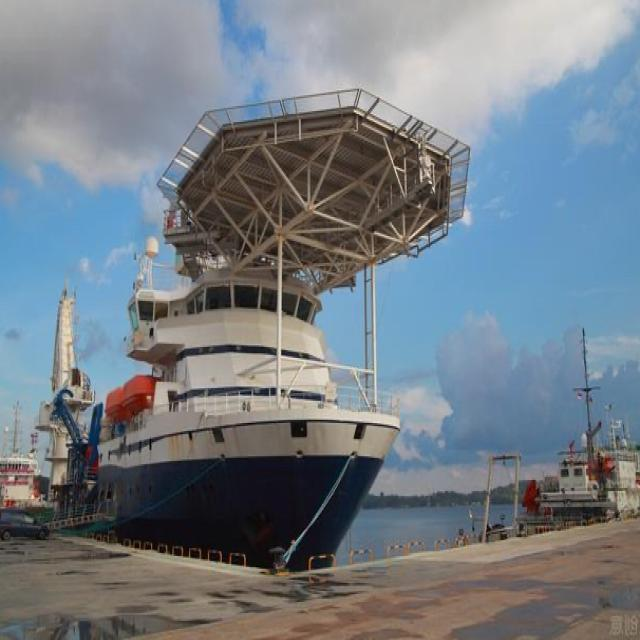houseboat: (76, 123, 434, 562)
